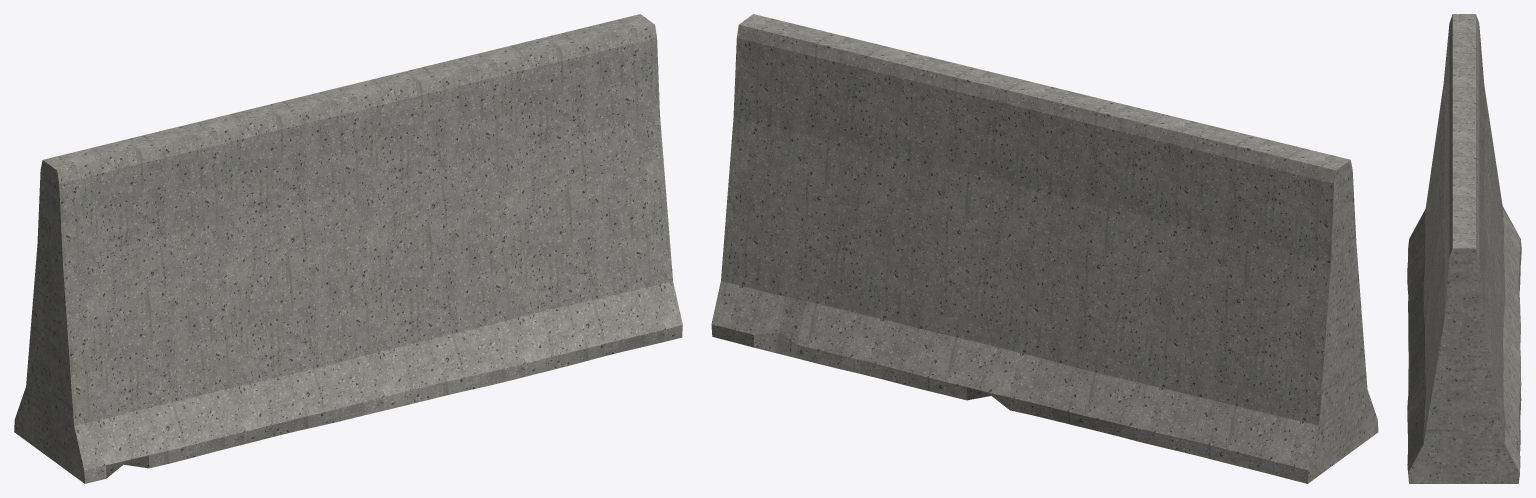
Rendered from road_cover_northwest_barrier.fbx.
3 views of the same model, side by side, from view 1: azimuth 30°, elevation 25°; view 2: azimuth 150°, elevation 25°; view 3: azimuth 270°, elevation 25° (orthographic). The views are drawn at different scales.
Visible parts, largest first — view 1: RoadBarrierNorthwestMesh.001; view 2: RoadBarrierNorthwestMesh.001; view 3: RoadBarrierNorthwestMesh.001.
Part boxes in pixels (x1=…): RoadBarrierNorthwestMesh.001: x1=14, y1=14, x2=682, y2=483; RoadBarrierNorthwestMesh.001: x1=711, y1=14, x2=1378, y2=483; RoadBarrierNorthwestMesh.001: x1=1407, y1=14, x2=1521, y2=483.
Bounding box in the file's own units: 10.85 × 2.24 × 5.08.
